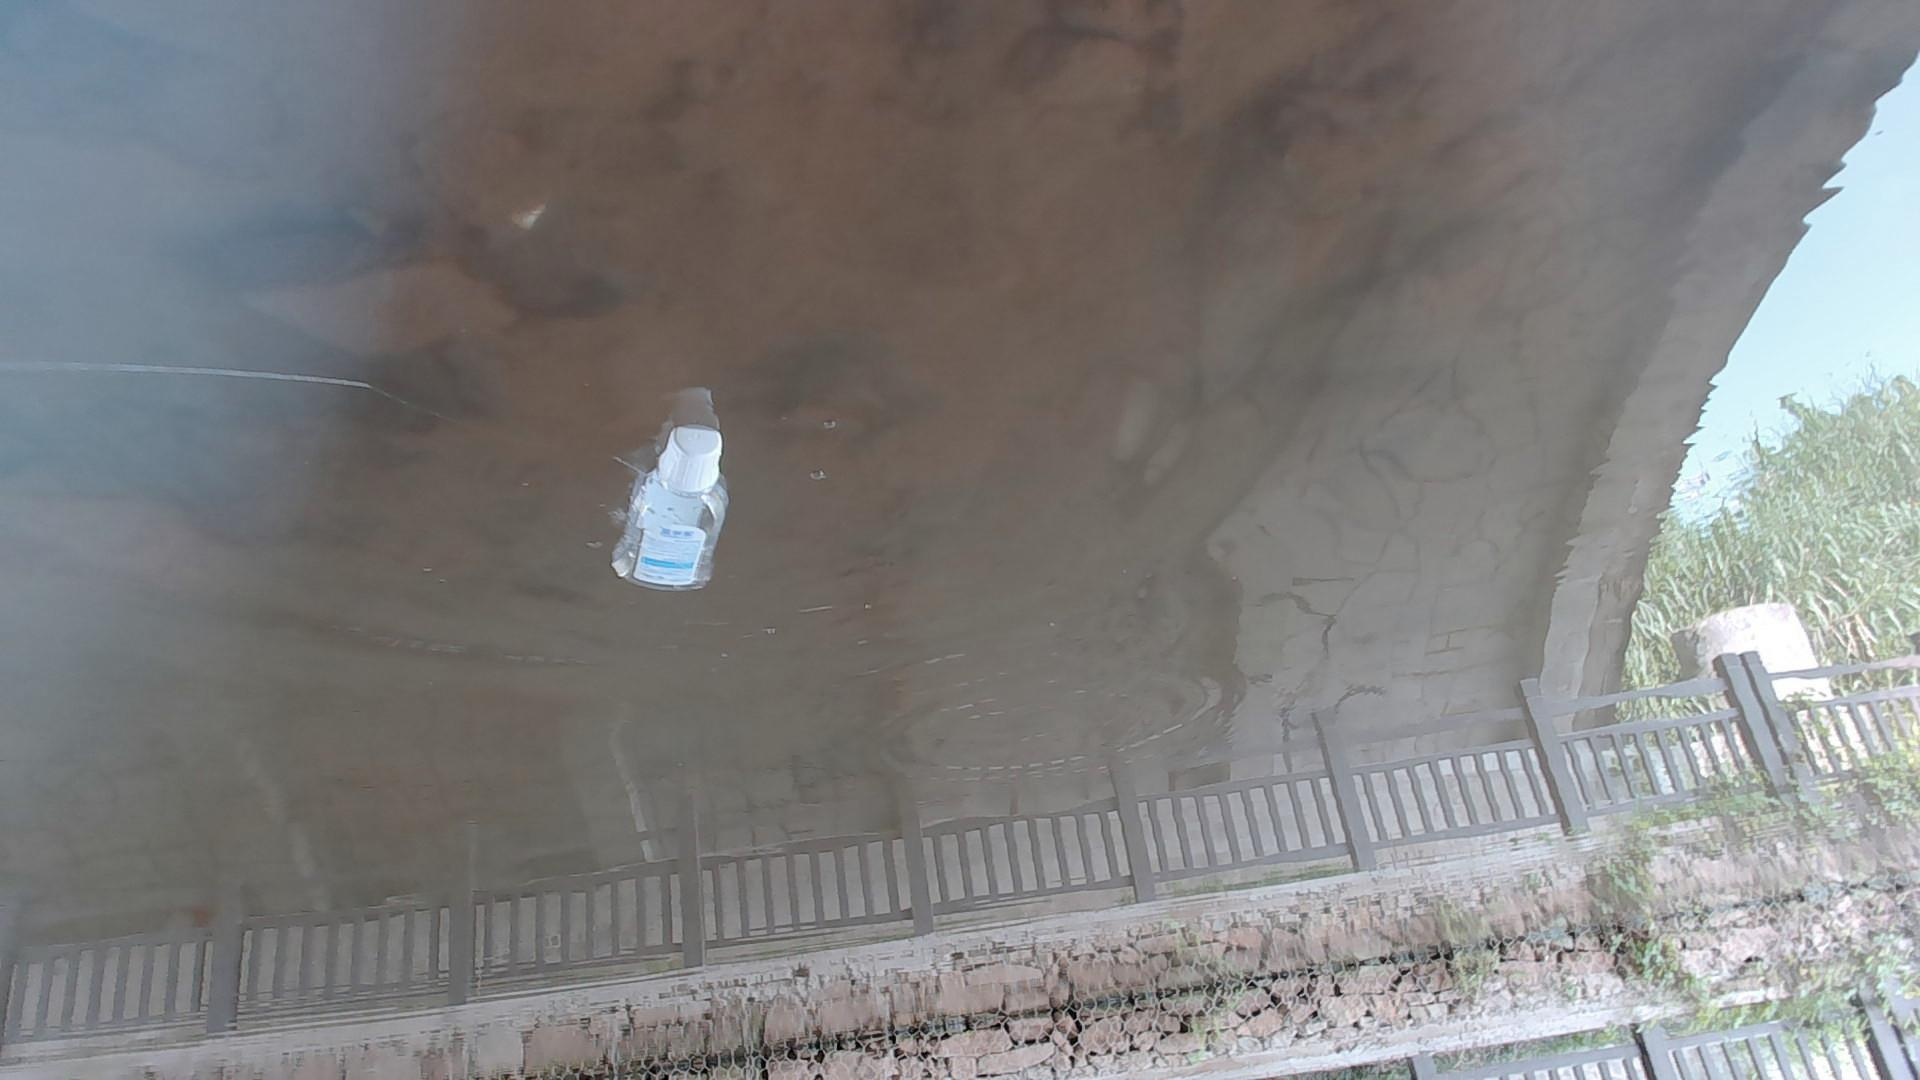Glass: (604, 421, 731, 600)
